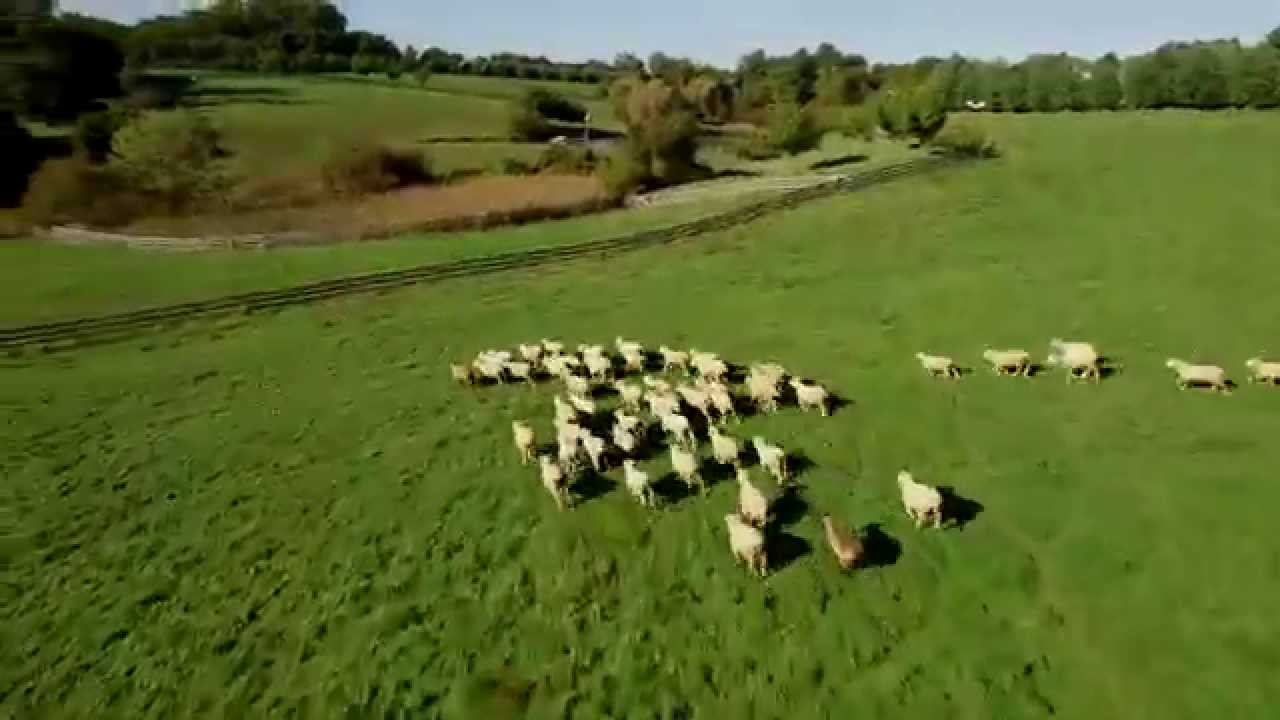sheep: (895, 450, 964, 545), (1157, 350, 1241, 399), (720, 512, 768, 581), (662, 443, 710, 506), (672, 382, 732, 430), (721, 465, 768, 526), (786, 379, 850, 422), (1046, 336, 1100, 386), (910, 348, 968, 393), (476, 350, 532, 392), (620, 461, 664, 514), (741, 365, 791, 410), (979, 347, 1036, 386), (816, 502, 854, 555), (702, 374, 741, 421), (656, 415, 707, 450), (518, 337, 565, 371), (755, 430, 789, 474), (539, 454, 567, 505), (566, 373, 596, 420), (582, 348, 621, 384), (448, 362, 485, 397), (545, 406, 579, 442), (689, 347, 723, 382), (510, 418, 538, 458), (614, 342, 650, 367), (656, 349, 683, 369)
